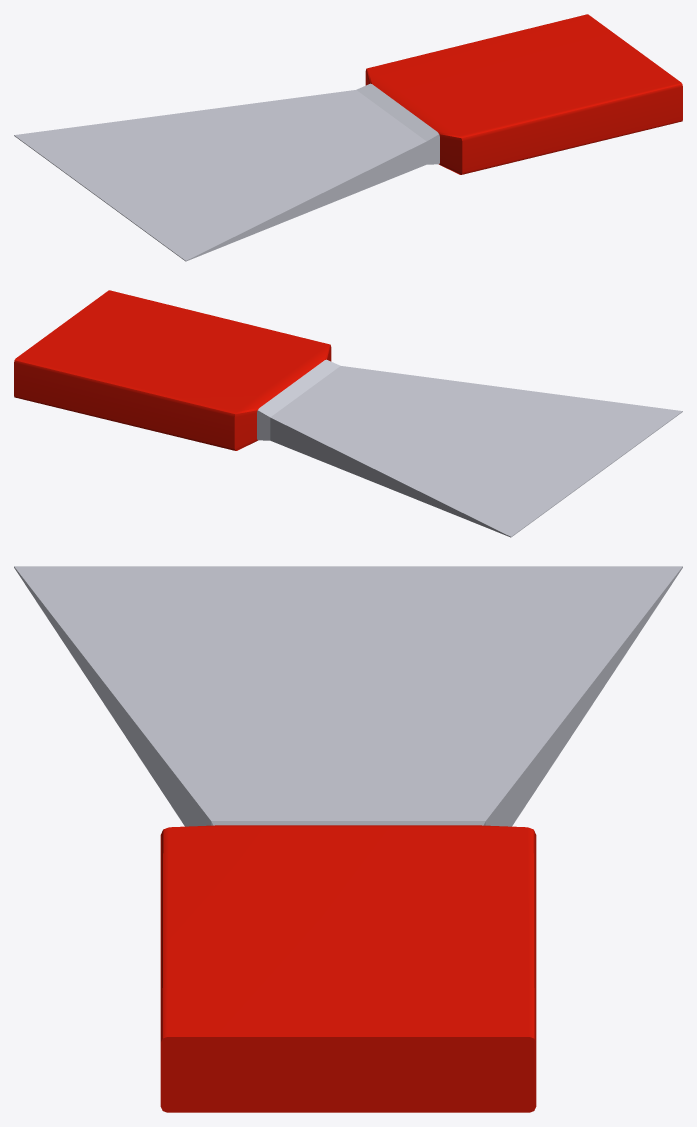
File: woodcurve.fbx
3 renders of one model, top to bottom at view 1: azimuth 30°, elevation 25°; view 2: azimuth 150°, elevation 25°; view 3: azimuth 270°, elevation 25°, orthographic. The views are drawn at different scales.
Visible parts, largest first — view 1: pCube1; view 2: pCube1; view 3: pCube1.
Part boxes in pixels (x1,y1,x2,y2): pCube1: [14, 14, 682, 261]; pCube1: [14, 290, 682, 537]; pCube1: [14, 566, 682, 1112].
Bounding box in the file's own units: 1136 × 79.14 × 633.
